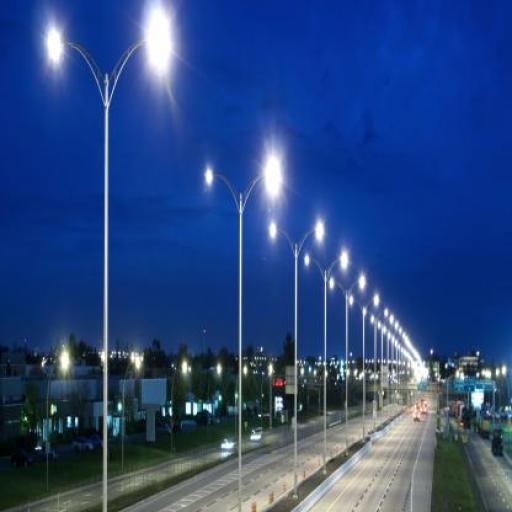street light: (48, 11, 171, 511), (206, 160, 281, 512), (270, 219, 322, 495), (305, 252, 348, 478), (329, 276, 366, 455), (349, 292, 381, 438), (369, 310, 390, 431)
